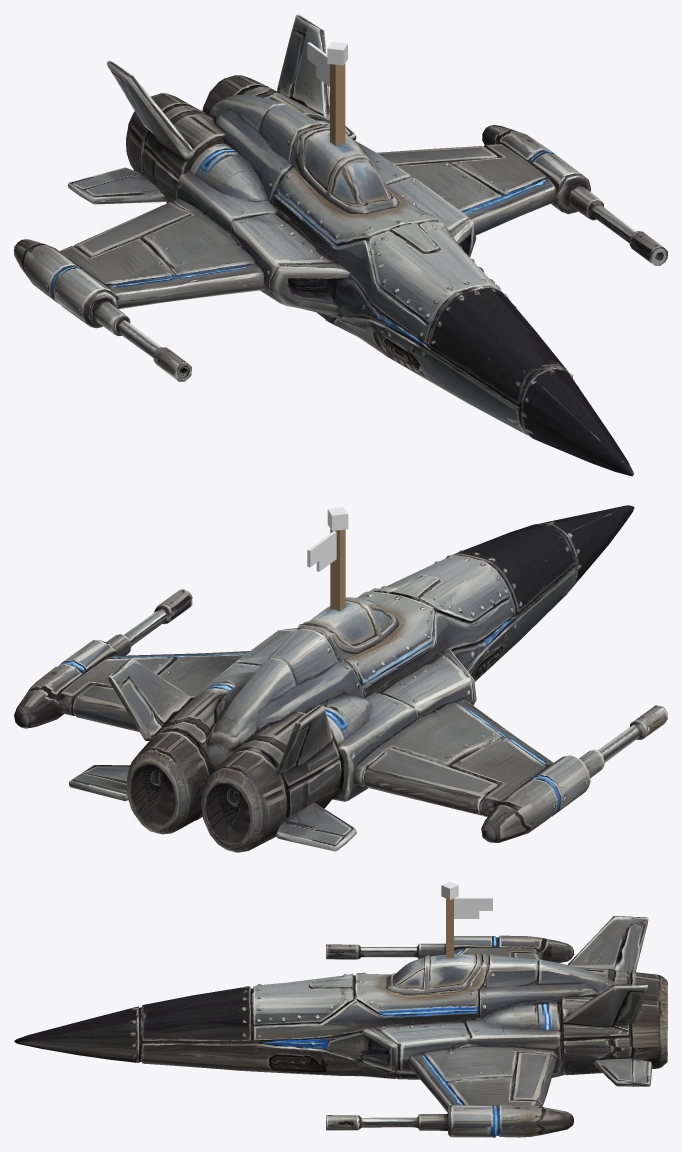
File: starfighter.glb
3 renders of one model, top to bottom at view 1: azimuth 30°, elevation 25°; view 2: azimuth 150°, elevation 25°; view 3: azimuth 270°, elevation 25°, orthographic. The views are drawn at different scales.
Parts seen in each view (by area): view 1: starfighter, Team_pennant; view 2: starfighter, Team_pennant; view 3: starfighter, Team_pennant.
Boxes of the visible parts, bbox=[...] form: starfighter: bbox=[14, 14, 667, 476]; Team_pennant: bbox=[307, 41, 347, 146]; starfighter: bbox=[14, 505, 667, 852]; Team_pennant: bbox=[307, 507, 348, 611]; starfighter: bbox=[14, 916, 667, 1137]; Team_pennant: bbox=[441, 881, 492, 958].
Bounding box in the file's own units: 1.25 × 0.5912 × 1.9.
Materials: 3 (1 with a texture image).
